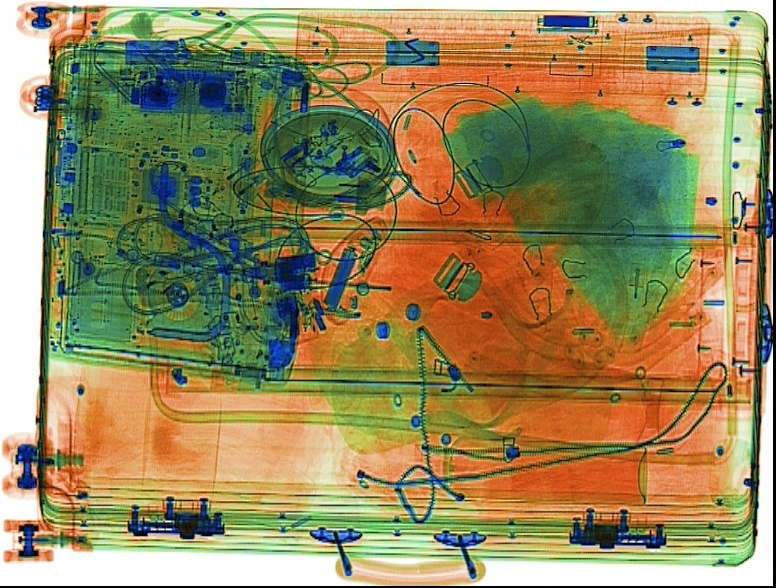pressure: (412, 434, 649, 506)
